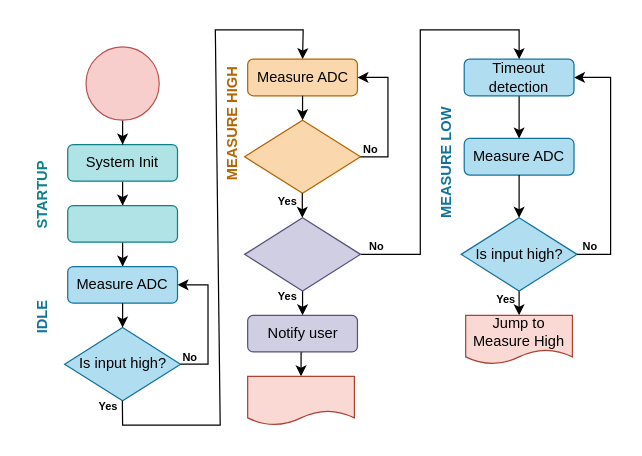
This 642x456 diagram has some shape labels left out. Here are the shapes that lost their labels. From the top down, the box of each, then its label:
(85, 46, 159, 120): BOOT
(243, 119, 361, 193): Is input low?
(66, 204, 178, 242): Calibration
(243, 217, 361, 291): Timing error
(246, 375, 354, 425): Jump to IDLE
